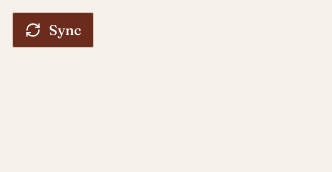
Test case: SyncButton › syncing state › shows loading spinner during sync
Click the button at coordinates (53, 30), box [12,12,94,48]
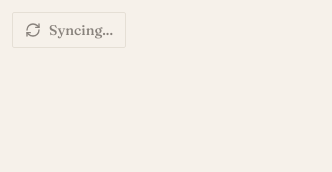
Check: the button is disabled, box [12,12,126,48]
